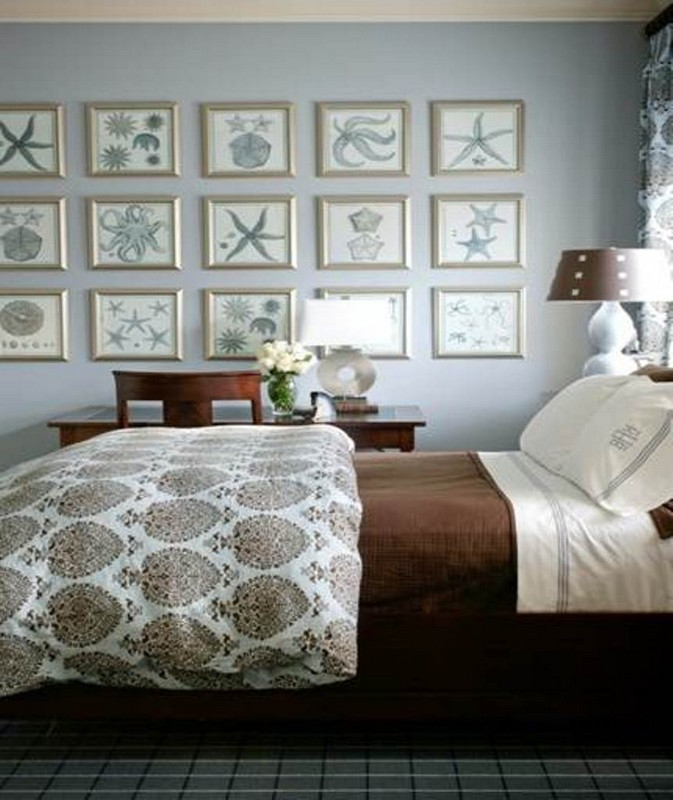bed: (1, 374, 667, 737)
chair: (112, 363, 263, 454)
lamp: (549, 241, 669, 389)
stool: (50, 399, 424, 461)
